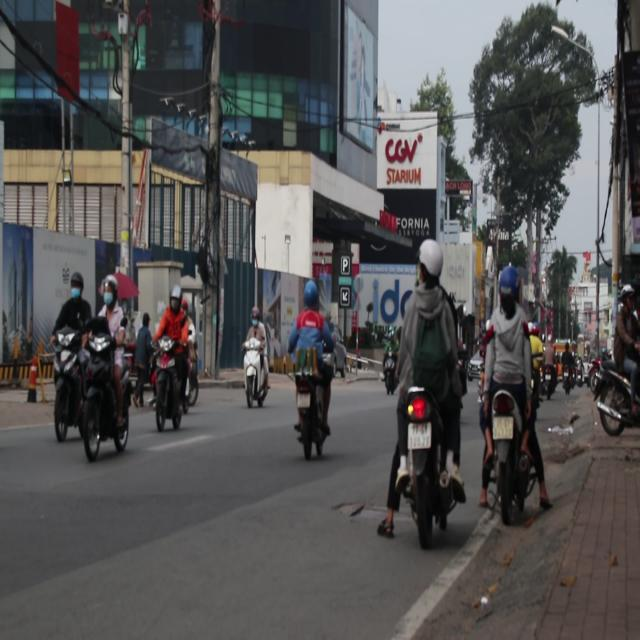car: (382, 326, 401, 397), (469, 355, 484, 381)
motorbike: (390, 387, 460, 543), (486, 388, 535, 516), (88, 331, 130, 457), (597, 352, 640, 464), (294, 344, 330, 465), (50, 325, 84, 431), (152, 337, 179, 432), (244, 337, 271, 408)
